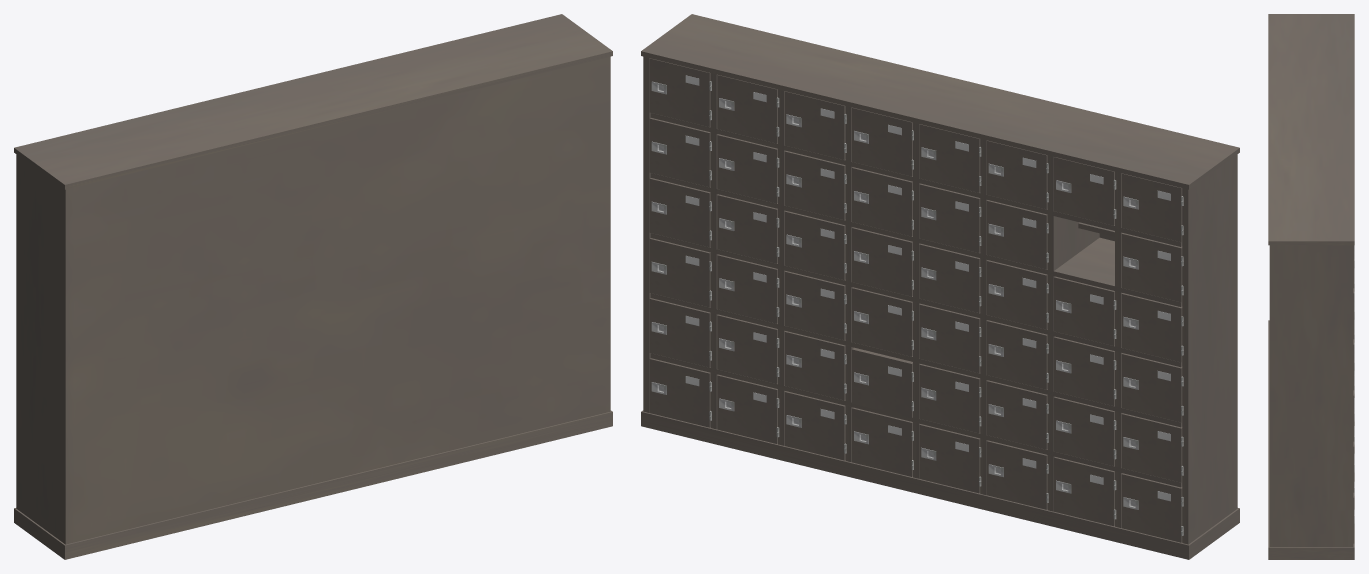
The model's file is Shoe_locker_wt.fbx.
3 renders of one model, left to right at view 1: azimuth 30°, elevation 25°; view 2: azimuth 150°, elevation 25°; view 3: azimuth 270°, elevation 25°, orthographic. The views are drawn at different scales.
Visible parts, largest first — view 1: Cube, top, sides, base; view 2: top, sides, base, full shelf.002, upright divider.002, Door04.001, Door01, Door06, Door06.002, Door01.002, Door01.003, Door06.003 (+51 smaller); view 3: sides.001, top, base.
Boxes of the visible parts, left/top/right/bottom form: Cube: left=65, top=56, right=610, bottom=544; top: left=14, top=14, right=612, bottom=189; sides: left=16, top=154, right=65, bottom=544; base: left=14, top=410, right=612, bottom=559; top: left=641, top=14, right=1239, bottom=189; sides: left=1182, top=154, right=1237, bottom=544; base: left=641, top=410, right=1239, bottom=559; full shelf.002: left=650, top=173, right=1182, bottom=306; upright divider.002: left=1047, top=155, right=1099, bottom=511; Door04.001: left=852, top=347, right=912, bottom=417; Door01: left=649, top=358, right=710, bottom=427; Door06: left=986, top=440, right=1047, bottom=509; Door06.002: left=986, top=320, right=1047, bottom=389; Door01.002: left=649, top=238, right=710, bottom=307; Door01.003: left=649, top=178, right=710, bottom=247; Door06.003: left=986, top=260, right=1047, bottom=329; sides.001: left=1269, top=245, right=1353, bottom=546; top: left=1268, top=14, right=1354, bottom=245; base: left=1268, top=320, right=1354, bottom=559.
Size of the model in its own units: 255 by 167 by 41.04.
95 materials, 95 textured.
